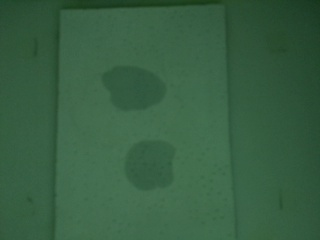Water_detected: (110, 73, 164, 112), (126, 152, 168, 191)
